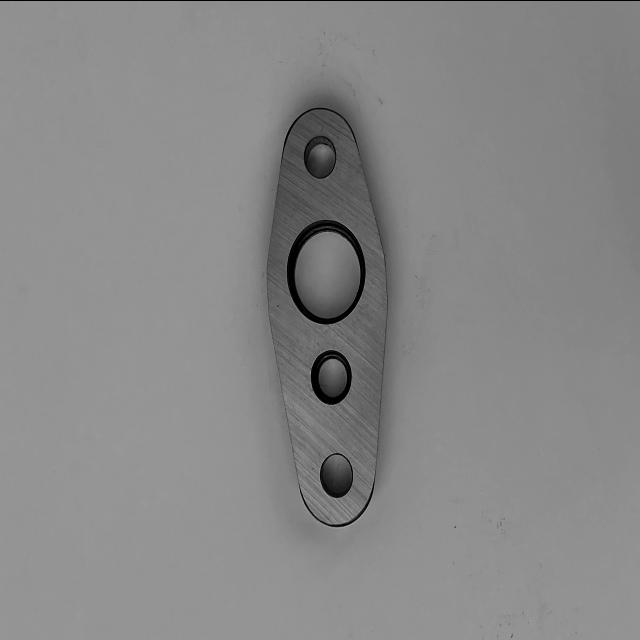chap: (274, 301, 282, 309)
